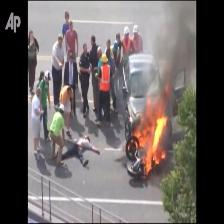fire: (131, 81, 177, 180)
smoke: (145, 2, 191, 74)
